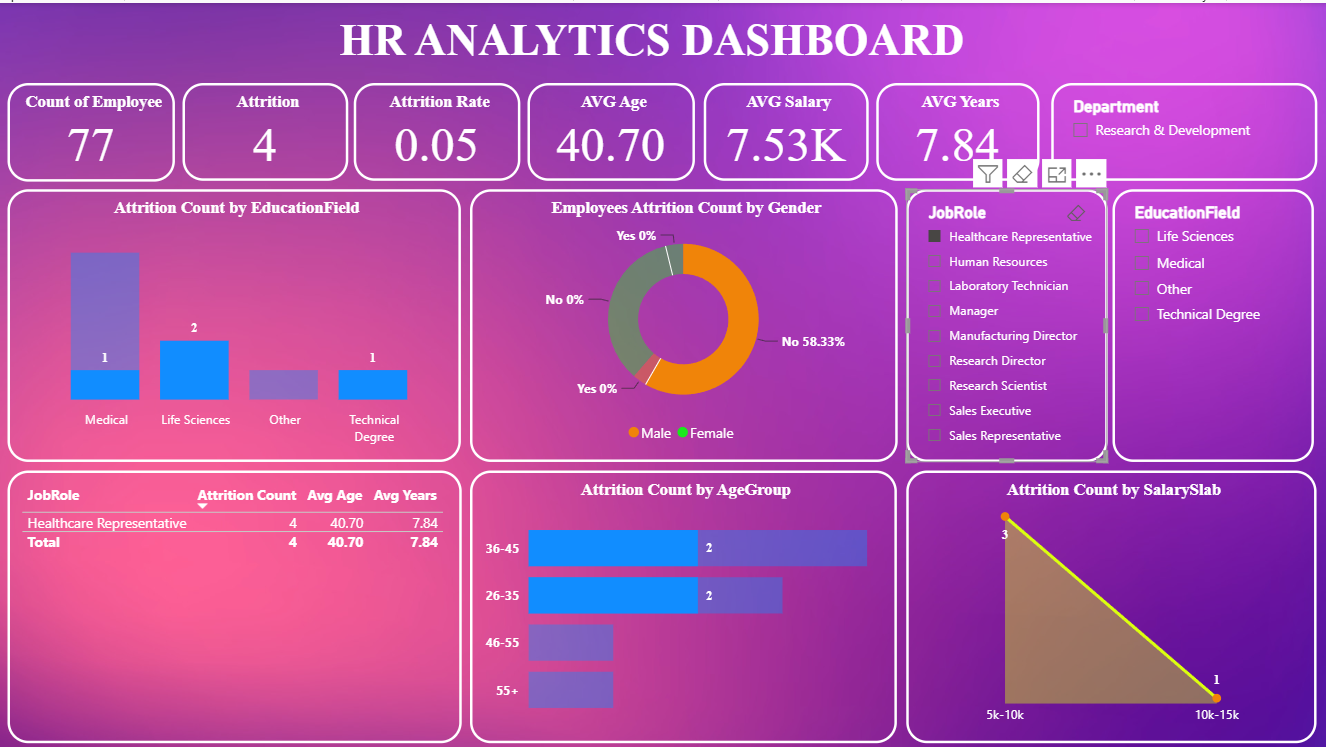

This screenshot's page, from the dashboard's own definition file:
{"tool":"powerbi","page":{"name":"Page 1","canvas":[1280,720],"ordinal":0},"visuals":[{"type":"textbox","box":[0,6.4,1258.2,62.7],"z":0},{"type":"card","title":"Count of  Employee","fields":{"Values":["HR_Analytics.Total Employees"]},"box":[6.7,76.7,161.7,95],"z":1000},{"type":"card","title":"Attrition","fields":{"Values":["HR_Analytics.Attrition Count"]},"box":[175.8,77.5,160,94.2],"z":2000},{"type":"card","title":"AVG Years","fields":{"Values":["HR_Analytics.Avg Years"]},"box":[845.8,77.5,157.5,94.2],"z":3000},{"type":"card","title":"AVG Salary","fields":{"Values":["HR_Analytics.Avg Salary"]},"box":[679.2,77.5,159.2,94.2],"z":4000},{"type":"card","title":"Attrition Rate","fields":{"Values":["HR_Analytics.Attrition Rate"]},"box":[341.7,77.5,160.8,94.2],"z":5000},{"type":"card","title":" AVG Age","fields":{"Values":["HR_Analytics.Avg Age"]},"box":[509.2,77.5,161.7,94.2],"z":6000},{"type":"columnChart","fields":{"Category":["HR_Analytics.EducationField"],"Y":["HR_Analytics.Attrition Count"]},"box":[6.7,180,437.5,263.3],"z":7000},{"type":"donutChart","title":"Employees Attrition Count by Gender","fields":{"Category":["HR_Analytics.Gender"],"Series":["HR_Analytics.Attrition"],"Y":["HR_Analytics.Total Employees"]},"box":[453.3,180,412.5,263.3],"z":8000},{"type":"clusteredBarChart","fields":{"Category":["HR_Analytics.AgeGroup"],"Y":["HR_Analytics.Attrition Count"]},"box":[454.2,450.8,411.7,263.3],"z":9000},{"type":"areaChart","fields":{"Category":["HR_Analytics.SalarySlab"],"Y":["HR_Analytics.Attrition Count"]},"box":[875,450.8,395.8,263.3],"z":10000},{"type":"tableEx","fields":{"Values":["HR_Analytics.JobRole","HR_Analytics.Attrition Count","HR_Analytics.Avg Age","HR_Analytics.Avg Years"]},"box":[7,451,438,263],"z":11000},{"type":"slicer","fields":{"Values":["HR_Analytics.Department"]},"box":[1014.2,77.5,256.7,94.2],"z":12000},{"type":"slicer","fields":{"Values":["HR_Analytics.JobRole"]},"box":[875,180,194.2,263.3],"z":13000},{"type":"slicer","fields":{"Values":["HR_Analytics.EducationField"]},"box":[1074.2,180,194.2,263.3],"z":14000}]}

Visuals, with their boxes in screenshot pixels (x1, y1, x2, y2), scaled from the page's 1280x720 canvas onto the 1326x747 screenshot:
textbox: [0, 7, 1303, 72]
"Count of  Employee" card: [7, 80, 174, 178]
"Attrition" card: [182, 80, 348, 178]
"AVG Years" card: [876, 80, 1039, 178]
"AVG Salary" card: [704, 80, 869, 178]
"Attrition Rate" card: [354, 80, 521, 178]
" AVG Age" card: [527, 80, 695, 178]
columnChart - HR_Analytics.EducationField x HR_Analytics.Attrition Count: [7, 187, 460, 460]
"Employees Attrition Count by Gender" donutChart: [470, 187, 897, 460]
clusteredBarChart - HR_Analytics.AgeGroup x HR_Analytics.Attrition Count: [471, 468, 897, 741]
areaChart - HR_Analytics.SalarySlab x HR_Analytics.Attrition Count: [906, 468, 1316, 741]
tableEx - HR_Analytics.JobRole x HR_Analytics.Attrition Count: [7, 468, 461, 741]
slicer - HR_Analytics.Department: [1051, 80, 1317, 178]
slicer - HR_Analytics.JobRole: [906, 187, 1108, 460]
slicer - HR_Analytics.EducationField: [1113, 187, 1314, 460]
